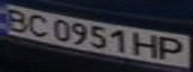0: (48, 16, 72, 43)
1: (109, 27, 130, 54)
5: (87, 24, 109, 51)
9: (66, 20, 90, 46)
B: (0, 4, 33, 33)
C: (24, 11, 54, 38)
H: (133, 30, 163, 60)
P: (154, 35, 190, 62)
